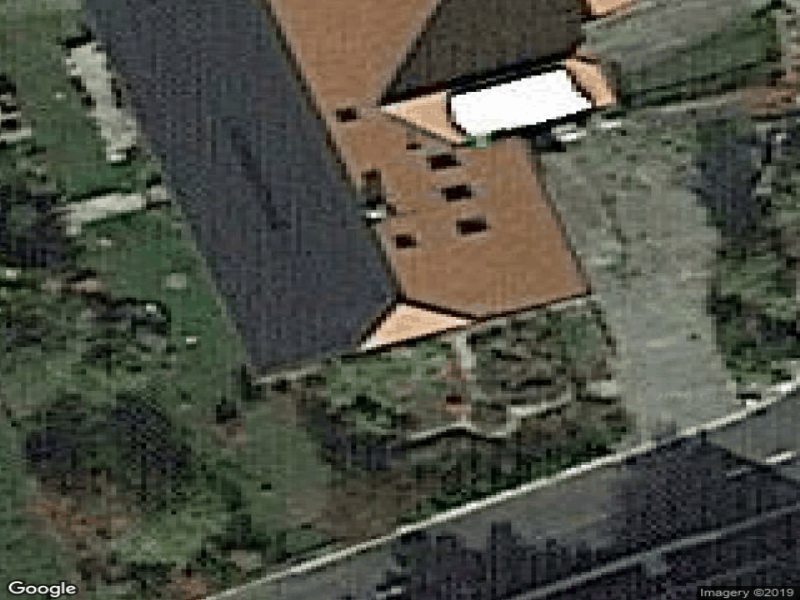pv: (82, 1, 395, 376)
